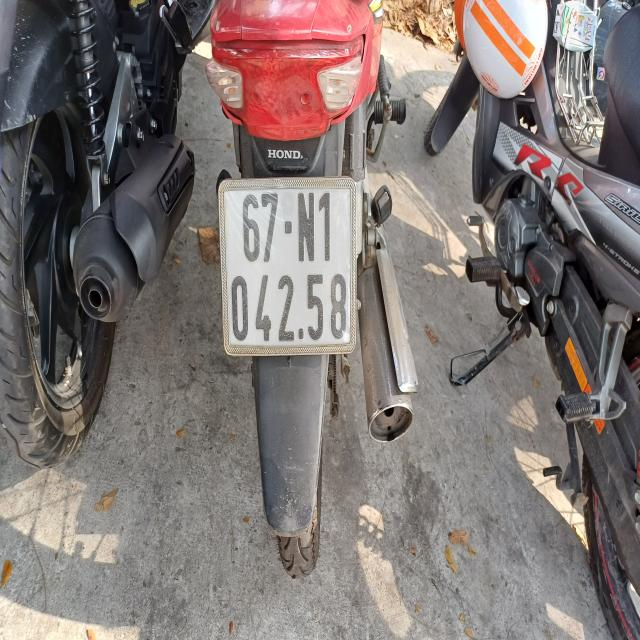0: (230, 278, 250, 342)
1: (319, 185, 334, 262)
2: (275, 276, 295, 342)
4: (256, 276, 274, 342)
5: (307, 271, 325, 343)
6: (242, 192, 261, 264)
7: (262, 192, 279, 262)
8: (330, 269, 348, 343)
N: (297, 192, 315, 266)
